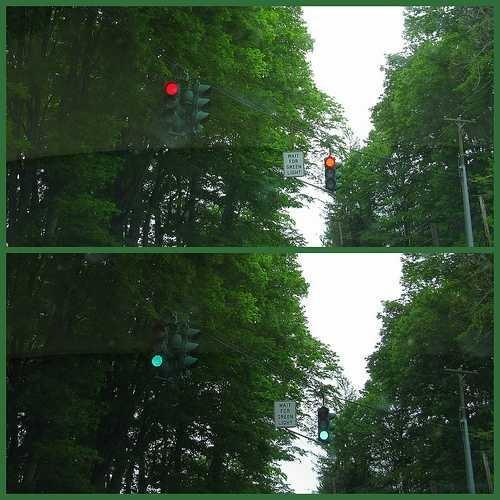2: (148, 322, 166, 374), (316, 404, 332, 447)
3: (165, 115, 180, 130), (164, 100, 180, 114)
5: (163, 78, 180, 96), (326, 154, 336, 166)
8: (162, 79, 181, 127), (324, 157, 338, 192)
red traffic light: (151, 352, 164, 371), (320, 430, 330, 442)
